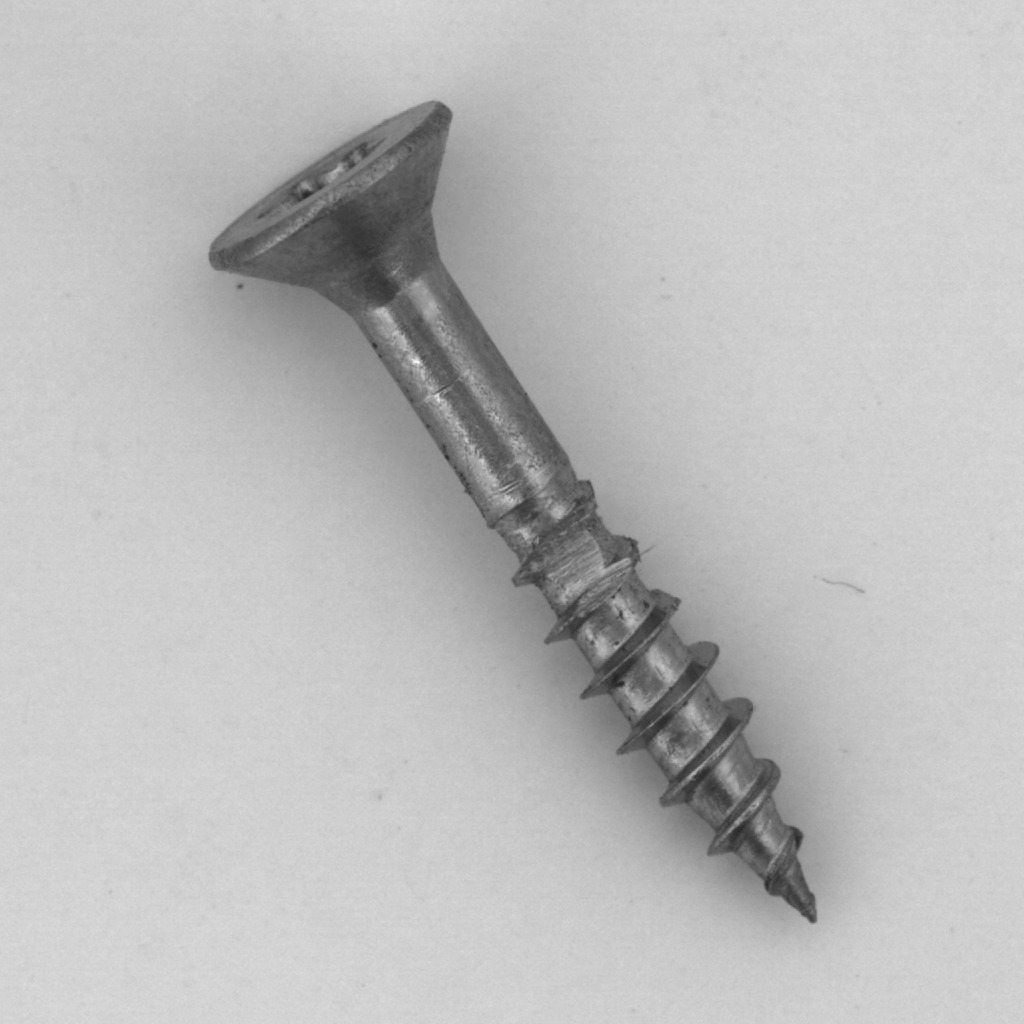thread_top: (428, 464, 730, 681)
